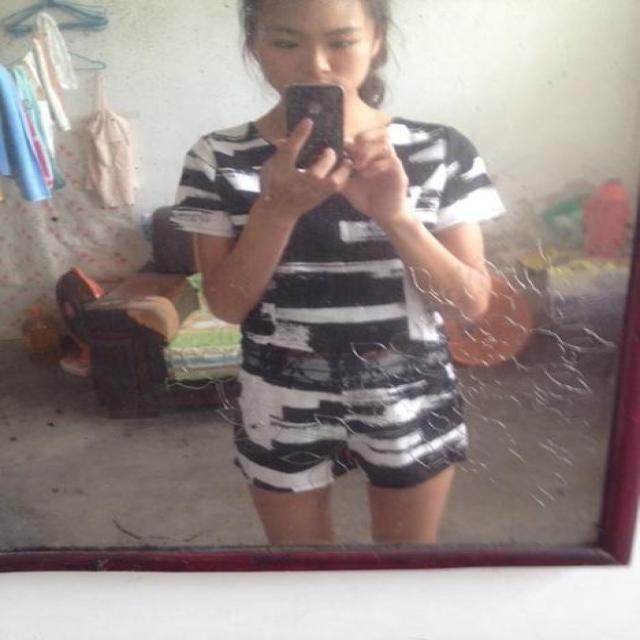short-sleeve-dress: (175, 104, 575, 495)
